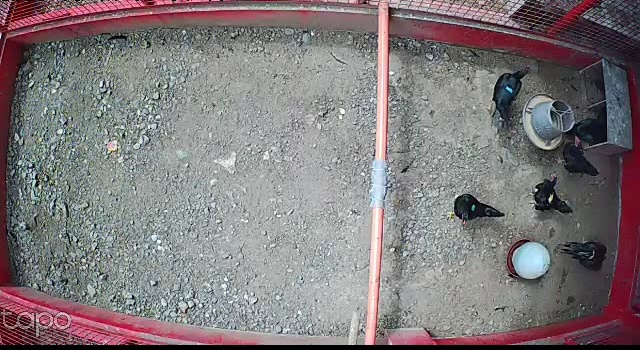Chicken: (484, 62, 530, 131), (524, 170, 578, 219), (445, 191, 507, 226), (553, 136, 602, 176)
Drinker: (506, 239, 553, 282)
Feeder: (520, 92, 575, 150)
Rooster: (552, 228, 611, 275)
Saddle_Color_Blue: (505, 85, 515, 94)
Saddle_Color_Yellow: (547, 193, 556, 204)
